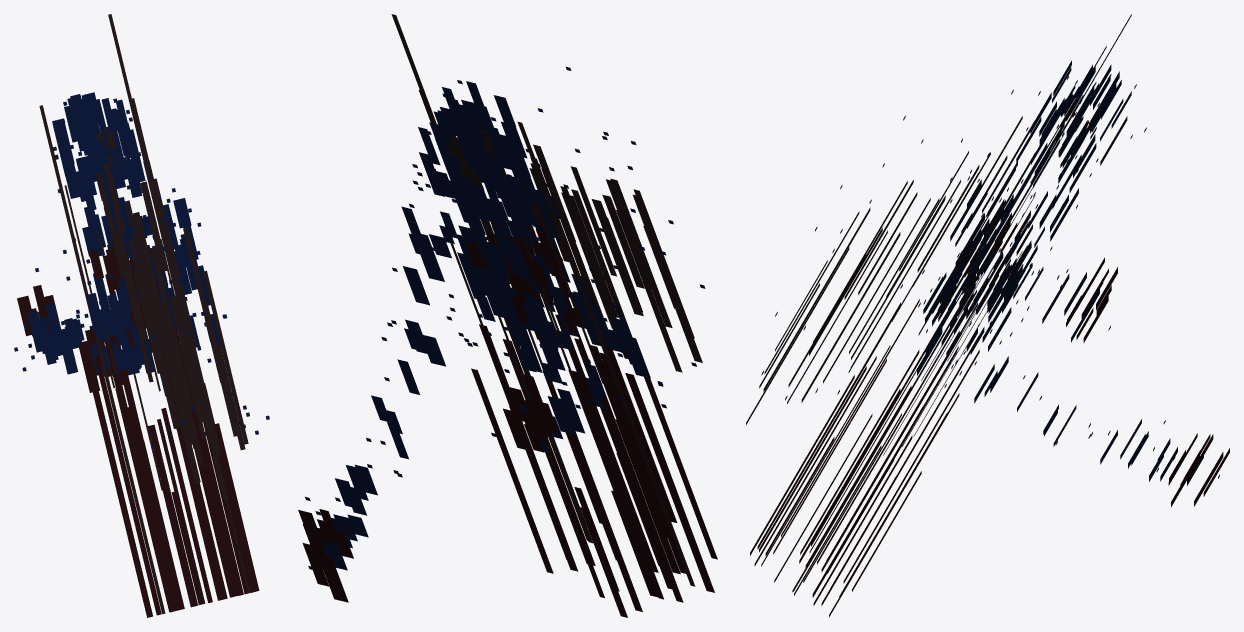
File: black_ice_hound.glb
3 renders of one model, left to right at view 1: azimuth 30°, elevation 25°; view 2: azimuth 150°, elevation 25°; view 3: azimuth 270°, elevation 25°, orthographic. The views are drawn at different scales.
Parts seen in each view (by area): view 1: black_ice_hound_inner, black_ice_hound_shell, black_ice_hound_dust; view 2: black_ice_hound_inner, black_ice_hound_shell, black_ice_hound_dust; view 3: black_ice_hound_inner, black_ice_hound_shell, black_ice_hound_dust.
Boxes of the visible parts, box(x1,y1,x2,y2) form: black_ice_hound_inner: box(17, 14, 259, 617); black_ice_hound_shell: box(27, 92, 220, 396); black_ice_hound_dust: box(14, 95, 269, 448); black_ice_hound_inner: box(298, 14, 717, 617); black_ice_hound_shell: box(321, 81, 650, 570); black_ice_hound_dust: box(305, 66, 705, 569); black_ice_hound_inner: box(746, 14, 1229, 617); black_ice_hound_shell: box(917, 60, 1203, 485); black_ice_hound_dust: box(761, 74, 1219, 478).
Size of the model in its own units: 1.41 by 3.12 by 2.27.
